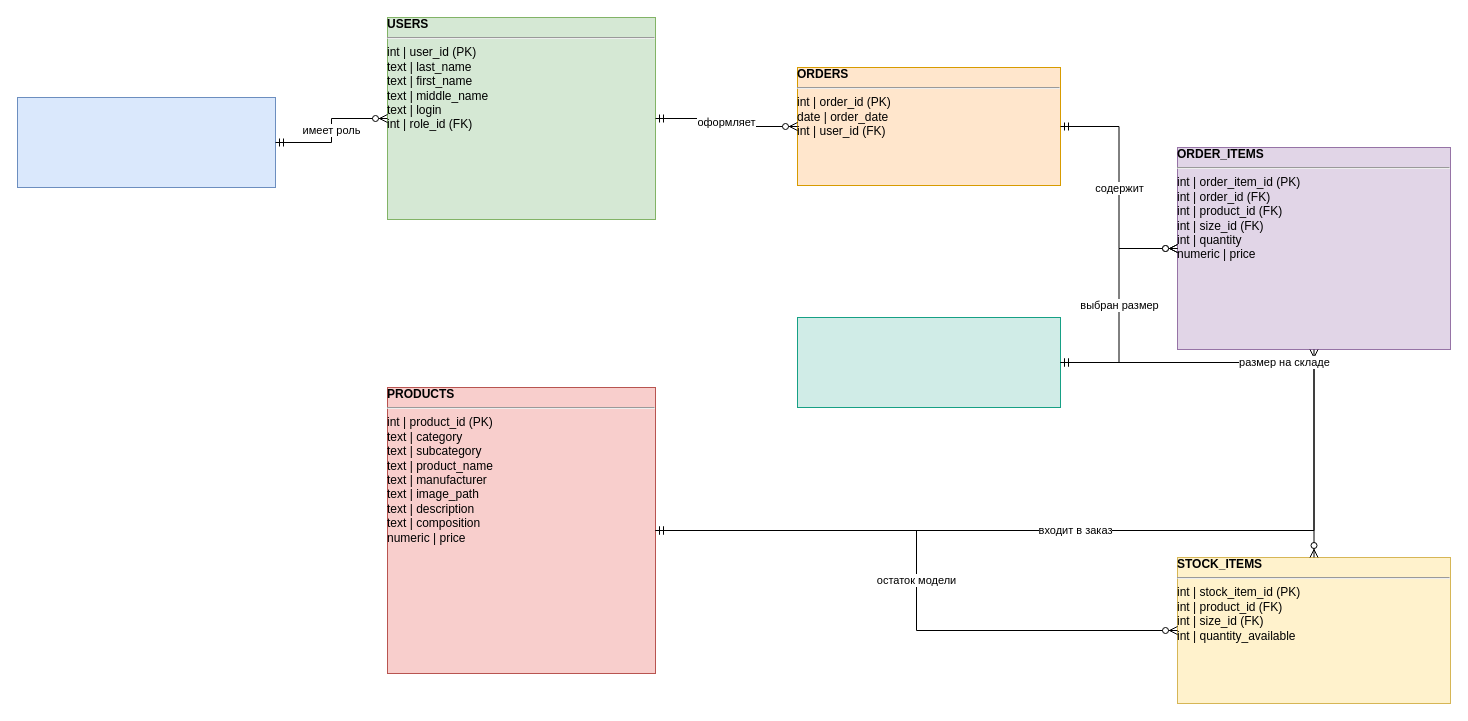
This 1468x721 diagram has some shape labels left out. The centre of each missing label's shape, as x and y in pixels:
"ROLES int | role_id (PK) text | role_name" belongs at (146,142).
"SIZES int | size_id (PK) text | size_value" belongs at (928,362).
